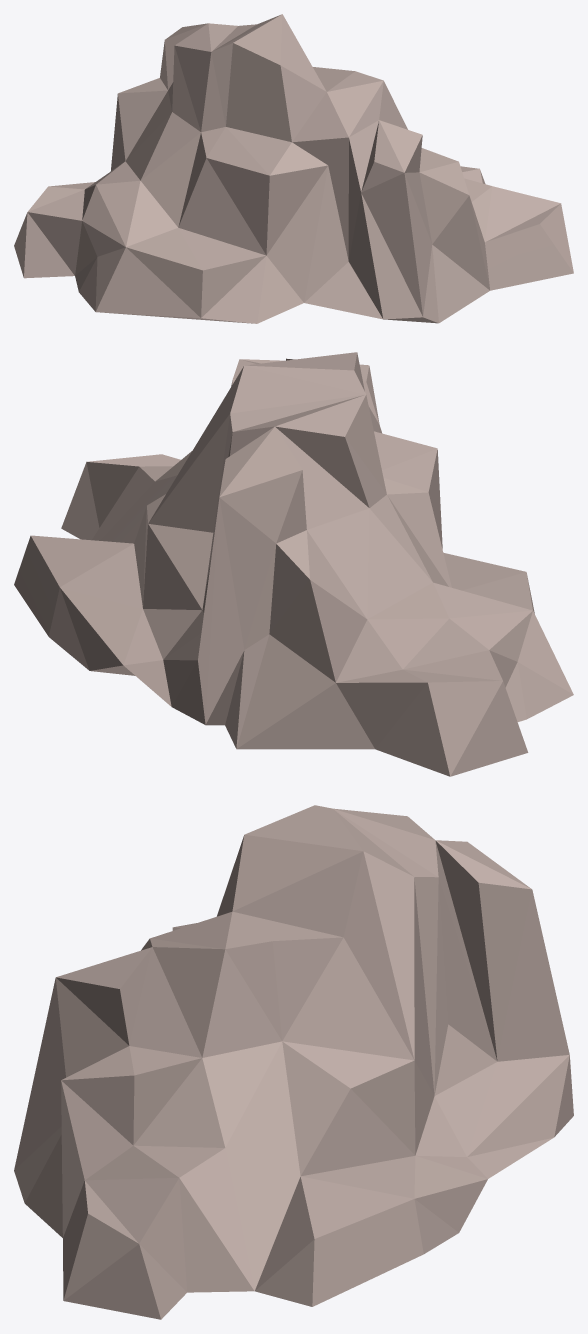
File: rock_018.fbx
The picture shows the model from 3 angles, top to bottom: view 1: azimuth 30°, elevation 25°; view 2: azimuth 150°, elevation 25°; view 3: azimuth 270°, elevation 25°; orthographic projection. The views are drawn at different scales.
Parts seen in each view (by area): view 1: rock.018; view 2: rock.018; view 3: rock.018.
Boxes of the visible parts, x1,y1,x2,y2 form: rock.018: (14, 14, 573, 323); rock.018: (14, 352, 573, 776); rock.018: (14, 805, 573, 1319).
Bounding box in the file's own units: 1159 × 570 × 885.
Materials: 1 (1 with a texture image).
